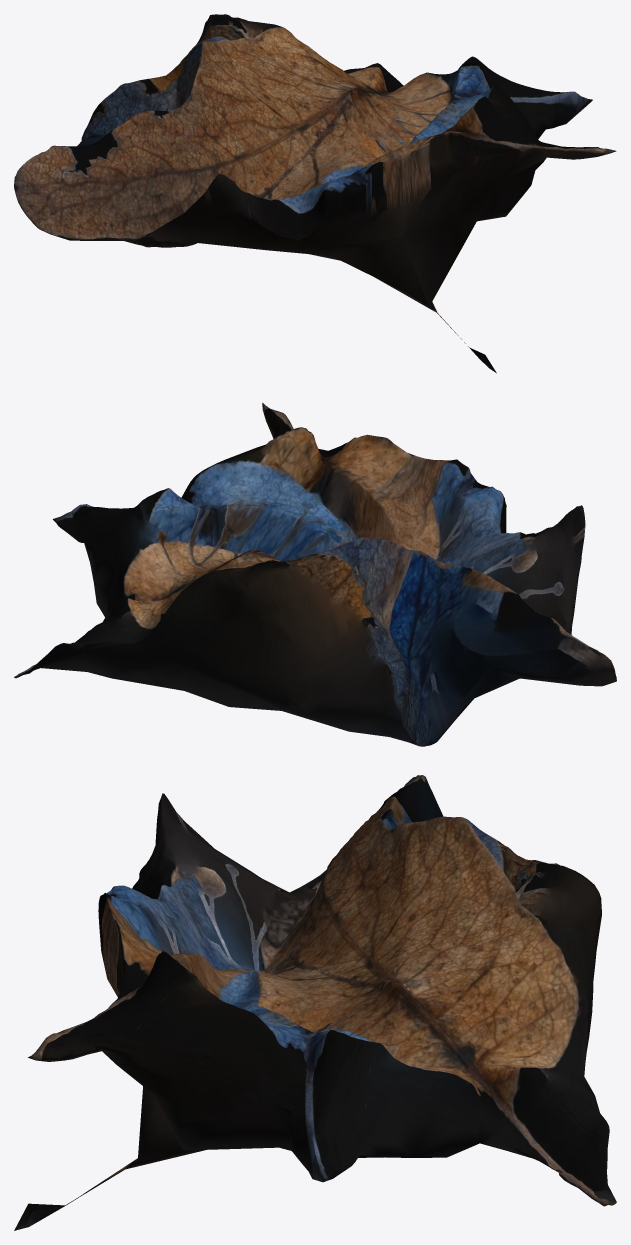
The model's file is leaf-09.glb.
3 views of the same model, one above another, from view 1: azimuth 30°, elevation 25°; view 2: azimuth 150°, elevation 25°; view 3: azimuth 270°, elevation 25° (orthographic). The views are drawn at different scales.
Visible parts, largest first — view 1: Mesh; view 2: Mesh; view 3: Mesh.
Boxes of the visible parts, x1,y1,x2,y2 form: Mesh: (14,14,616,373); Mesh: (14,402,616,746); Mesh: (14,775,616,1230).
Bounding box in the file's own units: 0.2455 × 0.1034 × 0.172.
1 material, 1 textured.
